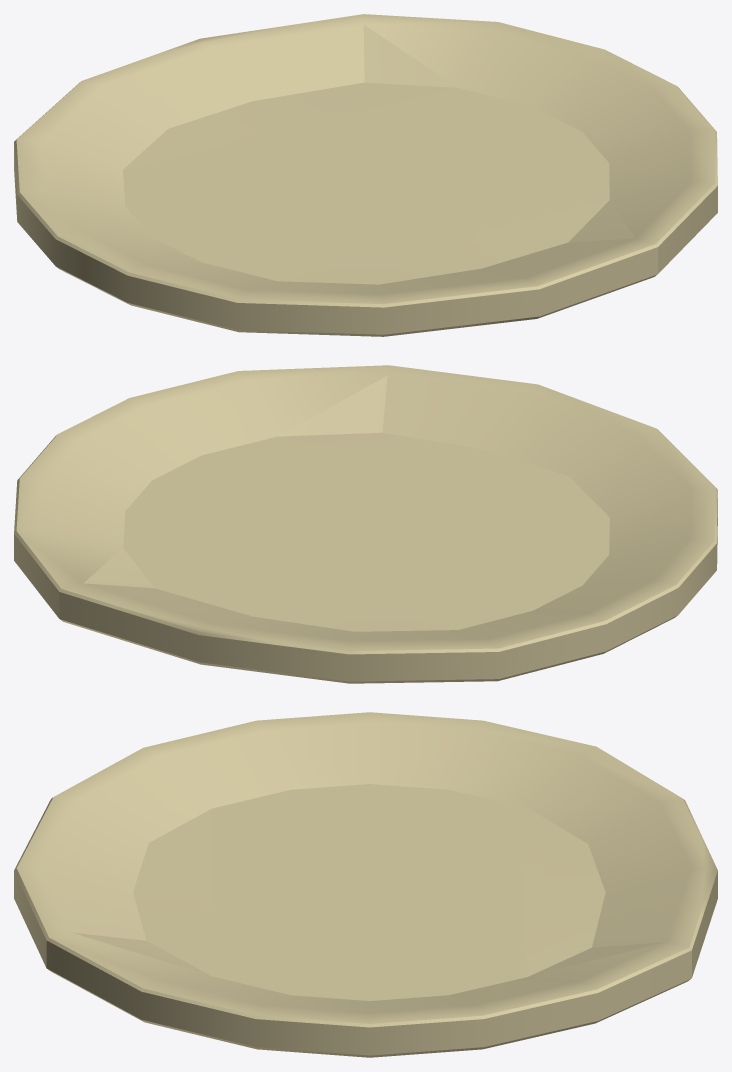
Rendered from plate_text (1).fbx.
3 views of the same model, one above another, from view 1: azimuth 30°, elevation 25°; view 2: azimuth 150°, elevation 25°; view 3: azimuth 270°, elevation 25° (orthographic). The views are drawn at different scales.
Parts seen in each view (by area): view 1: plate1; view 2: plate1; view 3: plate1.
Part boxes in pixels (<box>): plate1: <box>14,14,717,336</box>; plate1: <box>14,365,717,683</box>; plate1: <box>14,712,717,1057</box>.
Bounding box in the file's own units: 40.41 × 2.4 × 38.28.
Materials: 1 (1 with a texture image).
